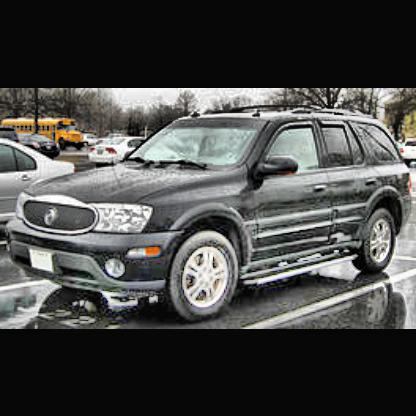Buick Rainier SUV 2007: (11, 115, 414, 326)
